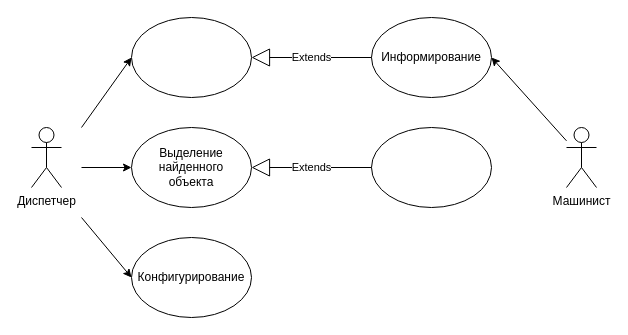
Some shapes in this 628 by 335 pixel diagram are drawn without their labels. Each missing label, with the centre of its shape:
Визуальный контроль: the point at 191,57
Переобучение: the point at 431,167
